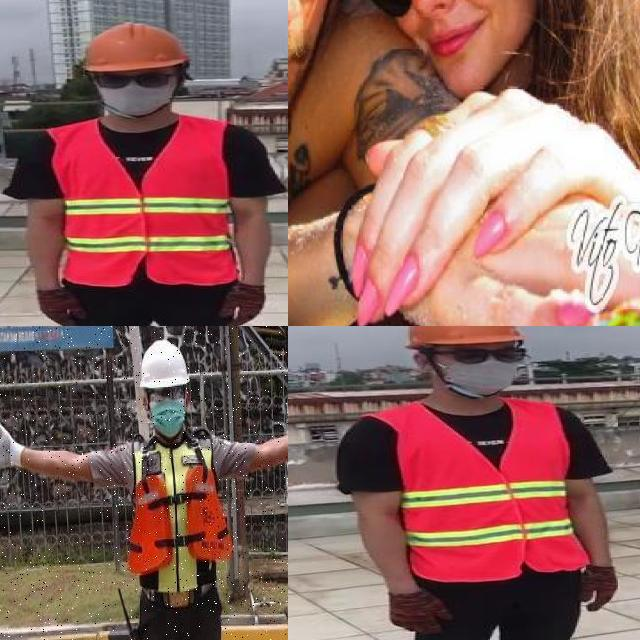face_mask: (431, 338, 534, 396), (90, 70, 176, 112)
face_nomask: (355, 0, 521, 61)
glasses: (440, 341, 534, 368), (88, 68, 176, 92)
hand_glove: (384, 590, 454, 635), (36, 287, 90, 326), (219, 284, 264, 326), (577, 567, 615, 611)
hand_noglove: (343, 76, 632, 322)
head_helmet: (78, 20, 190, 74), (387, 326, 528, 350), (138, 339, 194, 388)
person: (336, 326, 640, 640), (0, 326, 288, 640), (3, 20, 288, 326)
vest: (398, 397, 584, 579), (53, 117, 239, 287), (127, 437, 230, 593)
